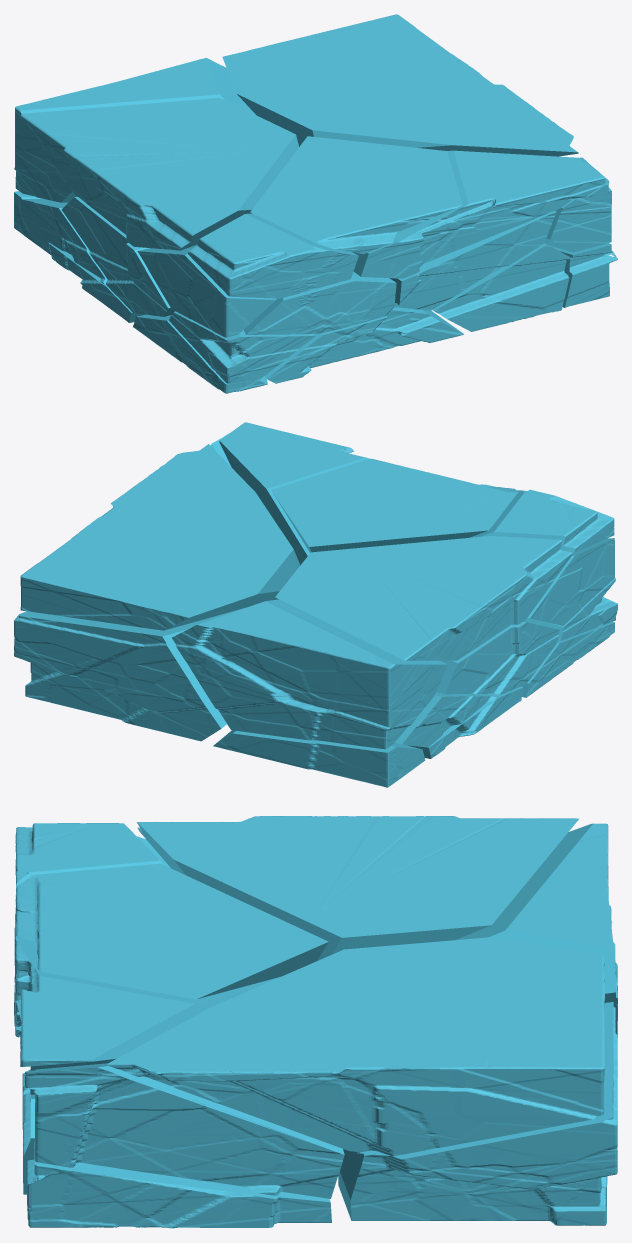
Rendered from ice stone (1).fbx.
3 views of the same model, one above another, from view 1: azimuth 30°, elevation 25°; view 2: azimuth 150°, elevation 25°; view 3: azimuth 270°, elevation 25° (orthographic). The views are drawn at different scales.
Visible parts, largest first — view 1: Cube_cell.013; view 2: Cube_cell.013; view 3: Cube_cell.013.
Boxes of the visible parts, x1,y1,x2,y2 form: Cube_cell.013: [14, 14, 617, 393]; Cube_cell.013: [14, 422, 617, 787]; Cube_cell.013: [14, 816, 617, 1228].
Size of the model in its own units: 877 by 260 by 865.
